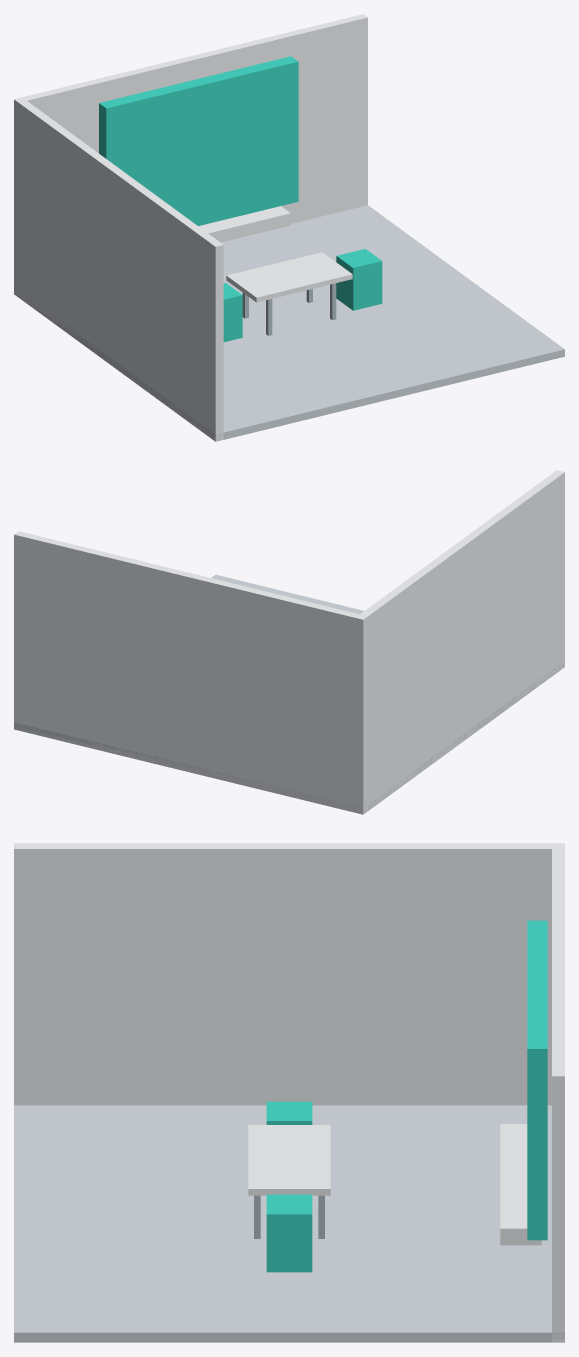
The picture shows the model from 3 angles, top to bottom: view 1: azimuth 30°, elevation 25°; view 2: azimuth 150°, elevation 25°; view 3: azimuth 270°, elevation 25°; orthographic projection. The views are drawn at different scales.
Visible parts, largest first — view 1: Exhibition Booth Concept; view 2: Exhibition Booth Concept; view 3: Exhibition Booth Concept.
Part boxes in pixels (bbox=[...]): Exhibition Booth Concept: bbox=[14, 14, 564, 441]; Exhibition Booth Concept: bbox=[14, 470, 564, 814]; Exhibition Booth Concept: bbox=[14, 843, 564, 1342].
Bounding box in the file's own units: 6 × 3.2 × 6.
